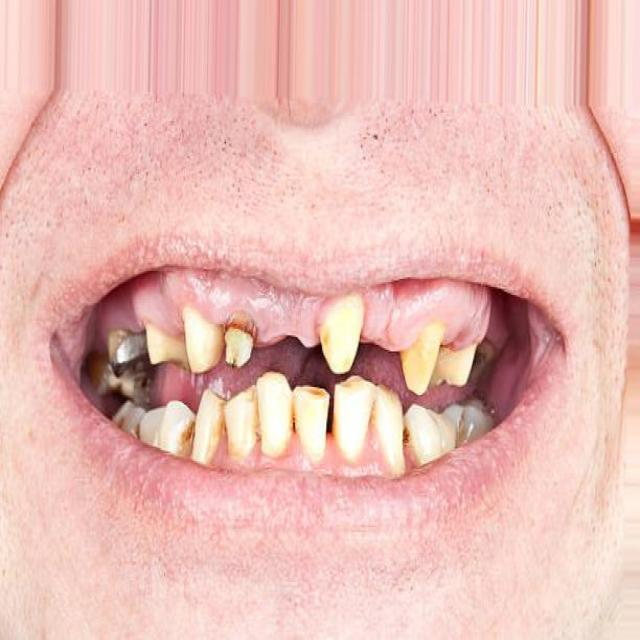caries: (97, 329, 165, 396), (218, 306, 259, 376)
